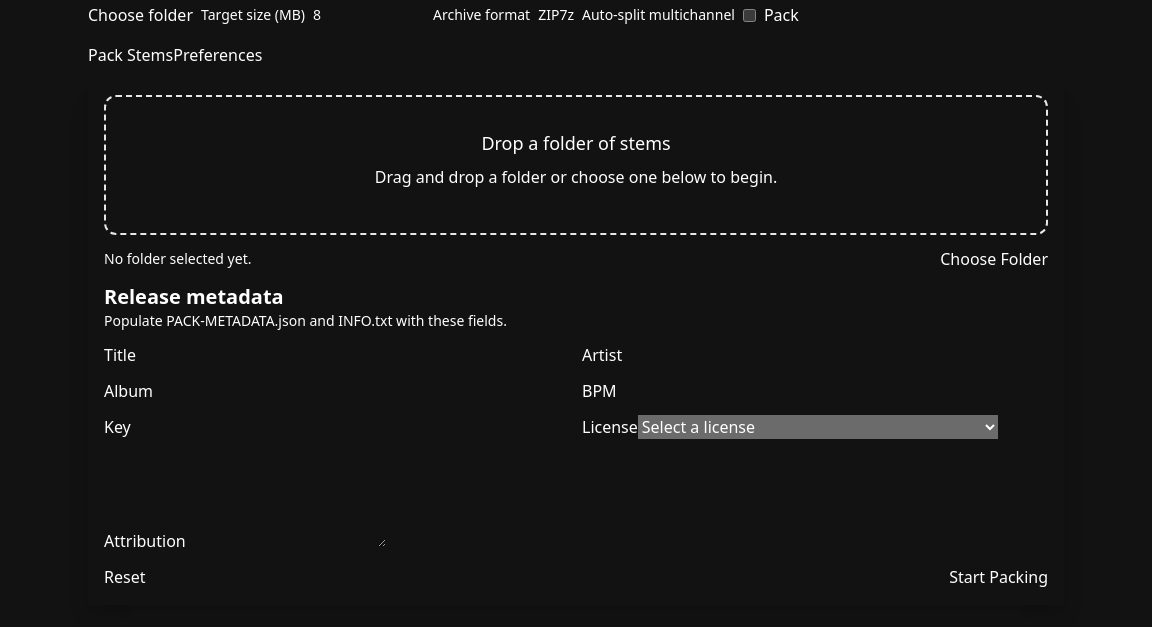
Test: multichannel split decision flow › returns to the idle state when cancelled
Step 1. Click the button "Choose Folder" → (994, 259), box x1=940 y1=247 x2=1048 y2=271
(page scrolled)
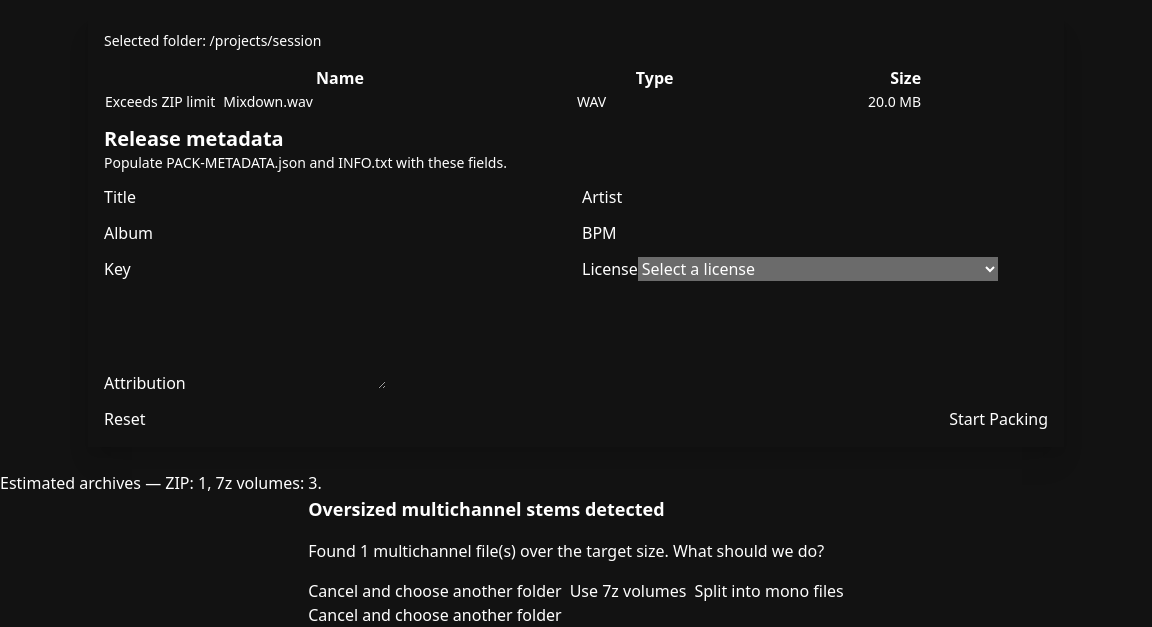
Expected: the text "Oversized multichannel stems detected" is shown, x1=308 y1=497 x2=664 y2=521
Step 2. Click the button "Cancel and choose another folder" below "Oversized multichannel stems detected" → (435, 591), box x1=308 y1=579 x2=562 y2=603
(page scrolled)
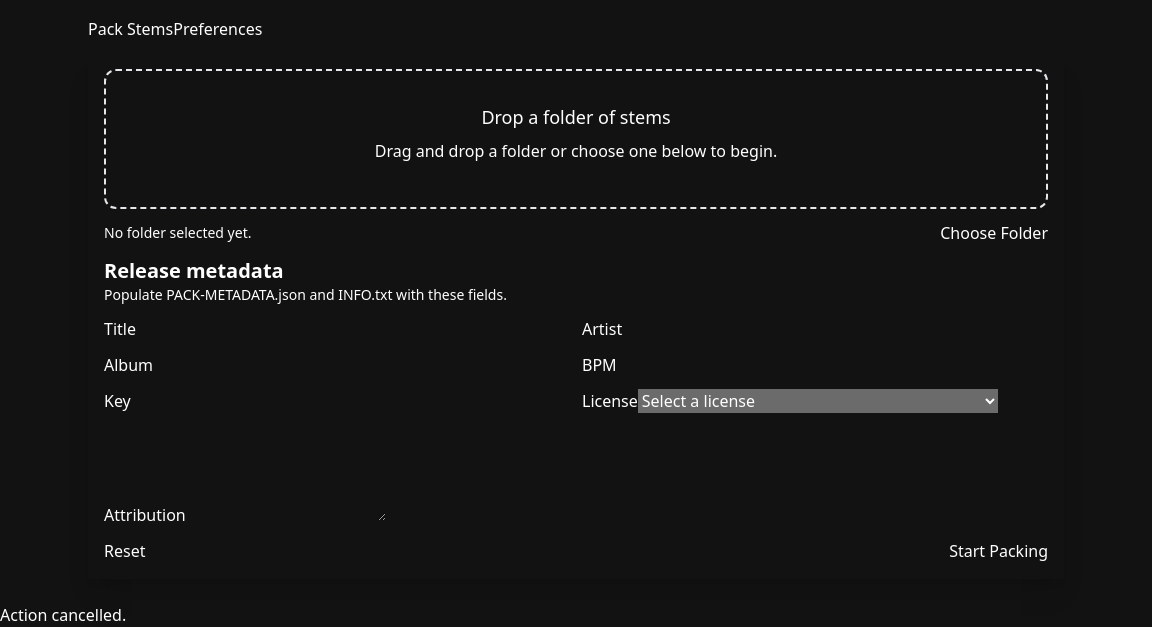
Expected: the text "Action cancelled." is shown, x1=0 y1=604 x2=126 y2=626
Expected: the heading "Oversized multichannel stems detected" is gone
Expected: the text "Mixdown.wav" is not shown
